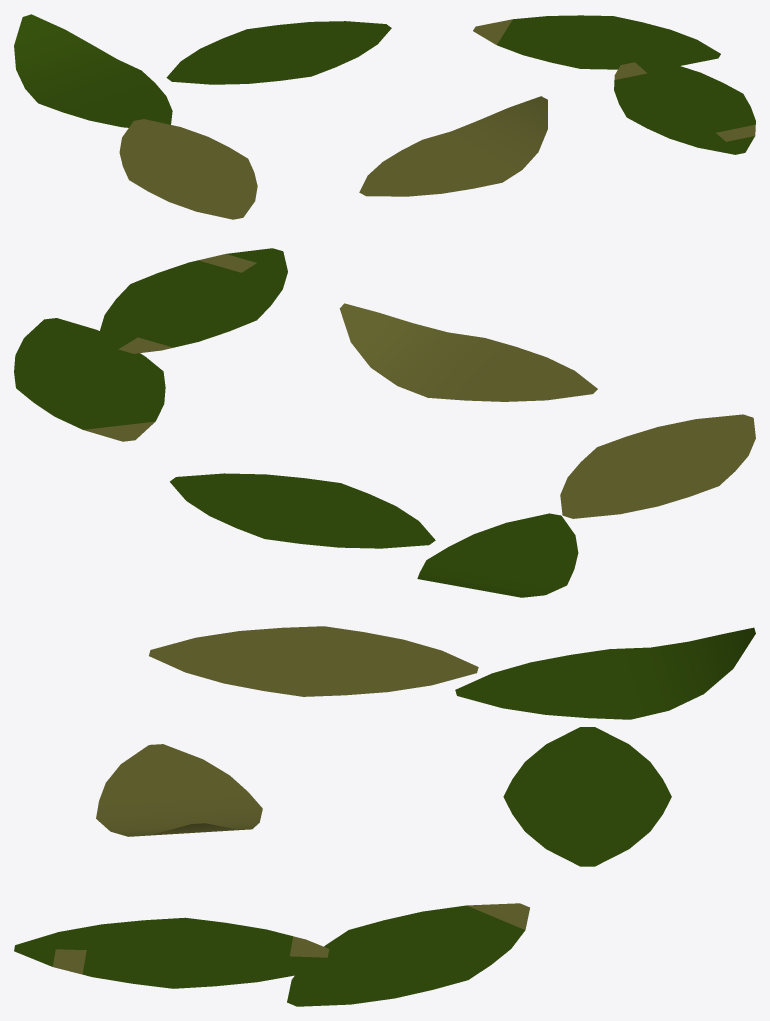
The model's file is leaves.fbx.
3 views of the same model, one above another, from view 1: azimuth 30°, elevation 25°; view 2: azimuth 150°, elevation 25°; view 3: azimuth 270°, elevation 25° (orthographic). The views are drawn at different scales.
Parts seen in each view (by area): view 1: pPlane6, pPlane5, pPlane1, pPlane2, pPlane4, pPlane3; view 2: pPlane5, pPlane1, pPlane4, pPlane2, pPlane3, pPlane6; view 3: pPlane2, pPlane4, pPlane1, pPlane6, pPlane3, pPlane5.
Part boxes in pixels (<box>): pPlane6: <box>14,14,172,127</box>; pPlane5: <box>359,96,547,196</box>; pPlane1: <box>166,21,391,84</box>; pPlane2: <box>119,119,257,219</box>; pPlane4: <box>614,56,755,154</box>; pPlane3: <box>473,15,720,69</box>; pPlane5: <box>339,303,597,401</box>; pPlane1: <box>170,473,435,548</box>; pPlane4: <box>99,248,287,355</box>; pPlane2: <box>560,414,755,518</box>; pPlane3: <box>14,318,165,441</box>; pPlane6: <box>417,513,578,597</box>; pPlane2: <box>149,626,478,696</box>; pPlane4: <box>14,917,344,988</box>; pPlane1: <box>503,727,671,866</box>; pPlane6: <box>455,627,755,719</box>; pPlane3: <box>287,903,529,1006</box>; pPlane5: <box>96,744,262,836</box>.
Bounding box in the file's own units: 3.81 × 0.2253 × 3.23.
